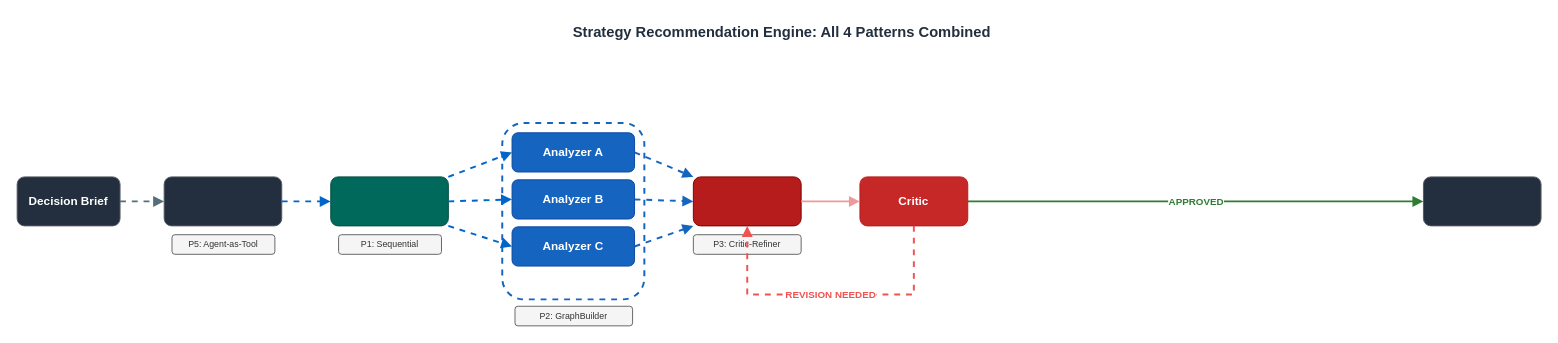
This 1558x343 diagram has some shape labels left out. The shapes that lost their labels are listed below. From the top down, each one's centre as x and y in pixels, then its label:
point (222, 201): Orchestrator
point (389, 201): Researcher
point (746, 201): Writer
point (1481, 201): Leadership Memo
